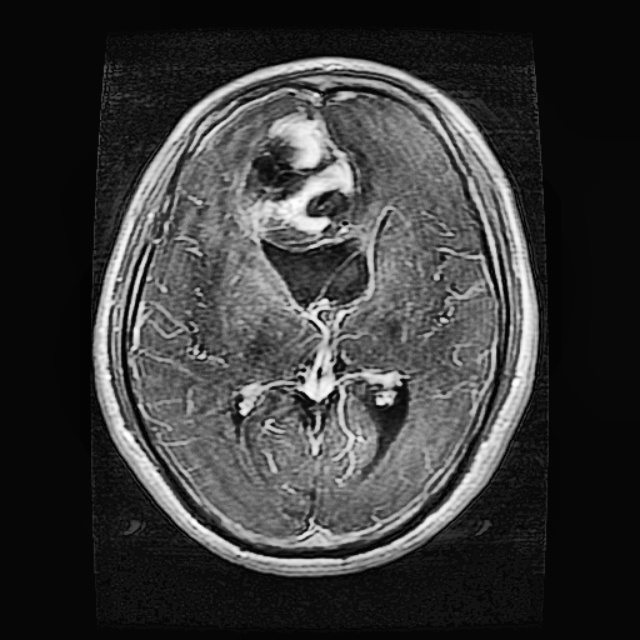Glioma: (260, 208, 379, 318)
